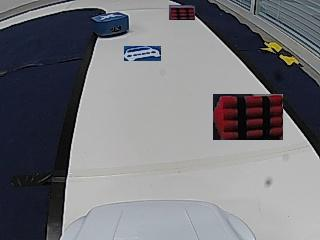prop: (92, 12, 129, 38)
